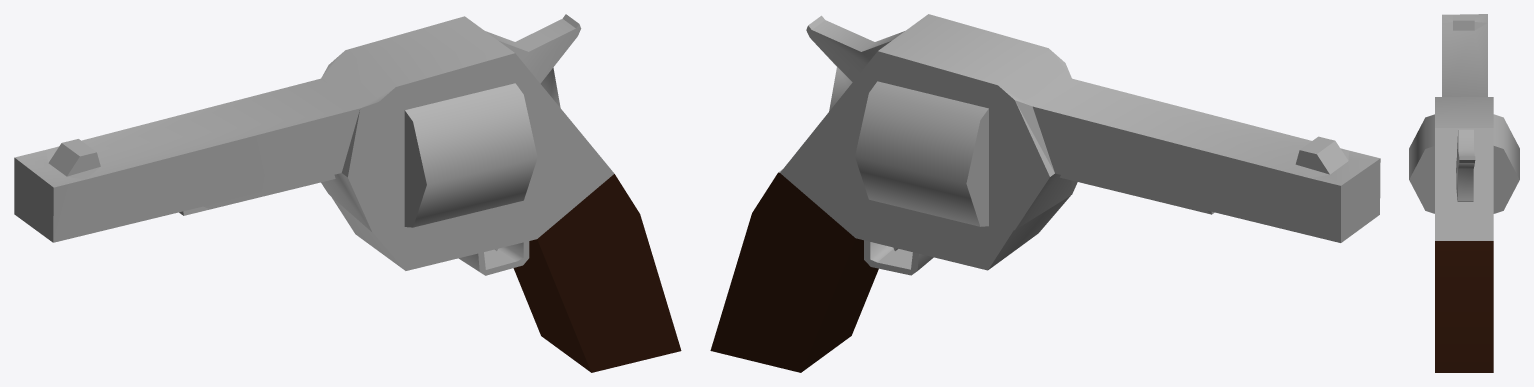
File: BigIron.fbx
3 renders of one model, left to right at view 1: azimuth 30°, elevation 25°; view 2: azimuth 150°, elevation 25°; view 3: azimuth 270°, elevation 25°, orthographic. The views are drawn at different scales.
Visible parts, largest first — view 1: Box001; view 2: Box001; view 3: Box001.
Part boxes in pixels (box(x1,y1,x2,y2)): Box001: box(14, 14, 681, 372); Box001: box(710, 14, 1380, 372); Box001: box(1409, 14, 1519, 372).
Bounding box in the file's own units: 69.87 × 18.48 × 36.36.
